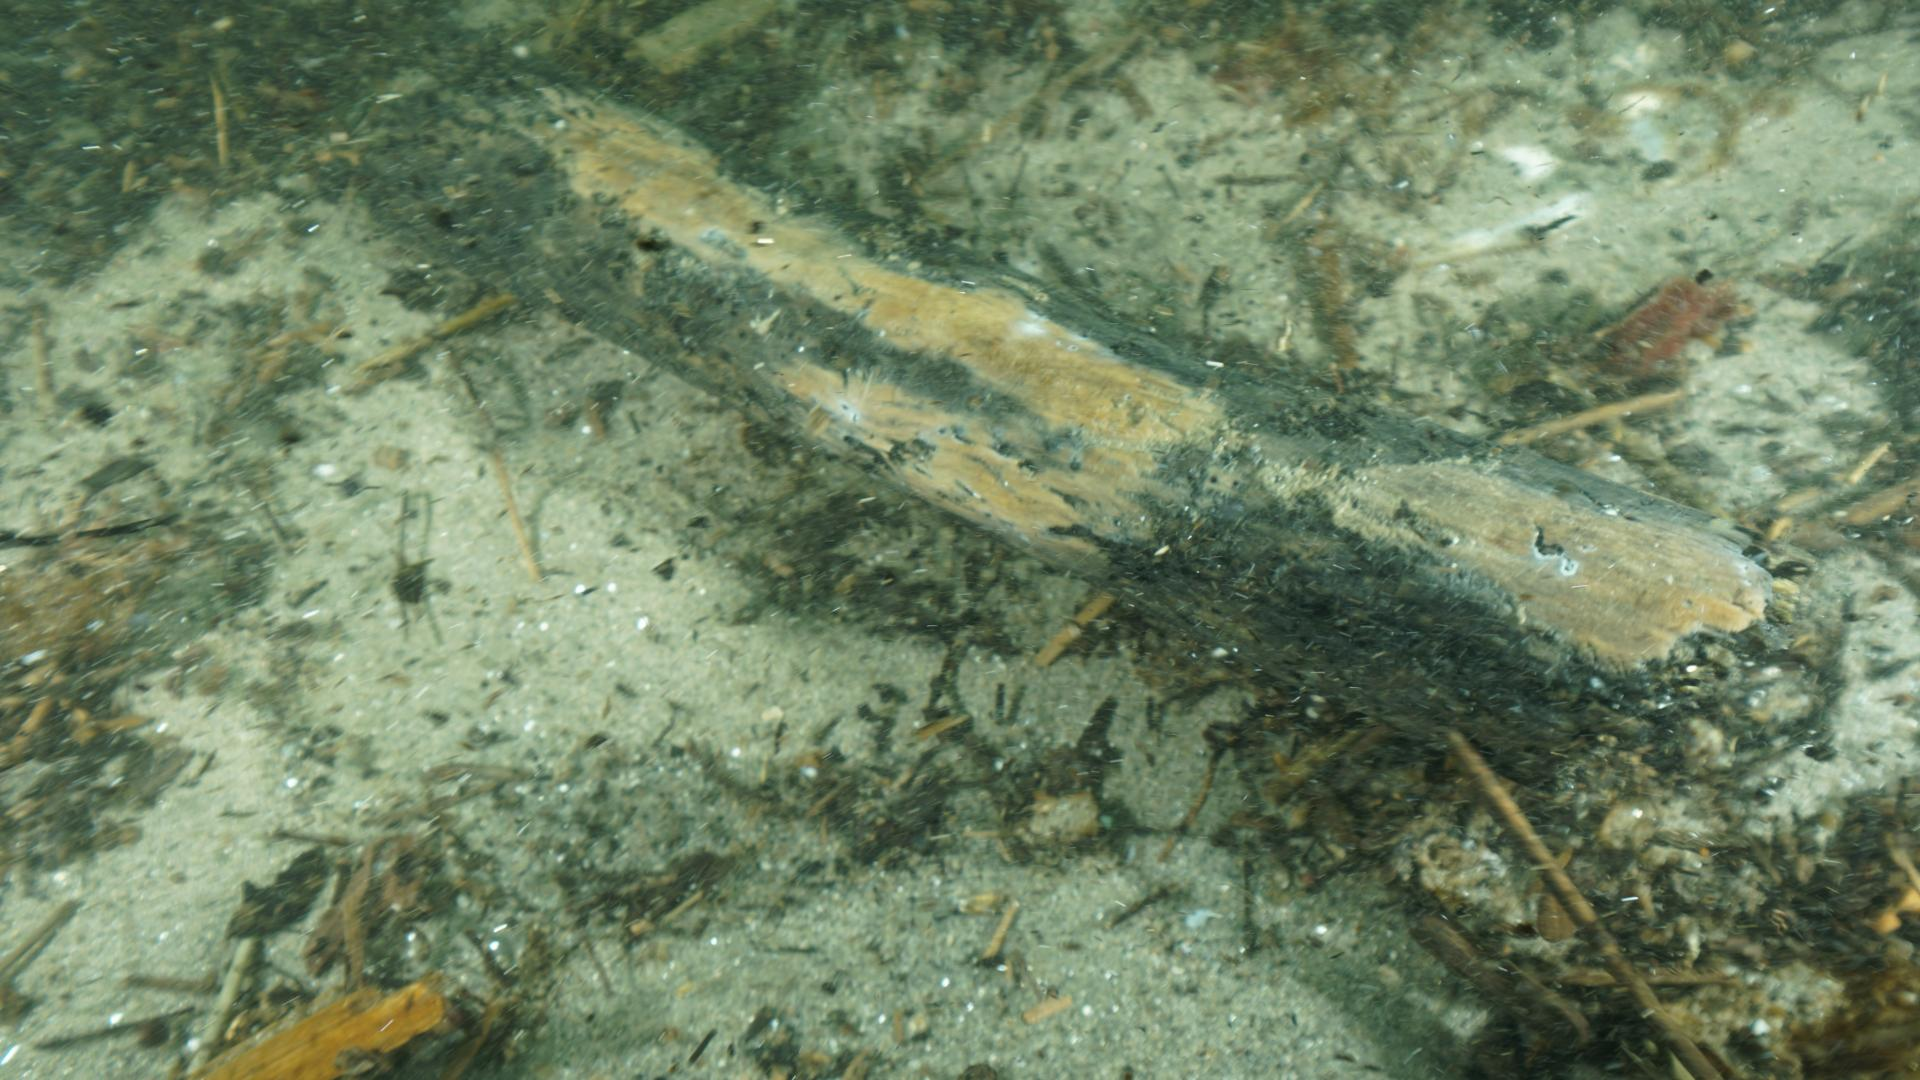wood: (398, 80, 1854, 790)
